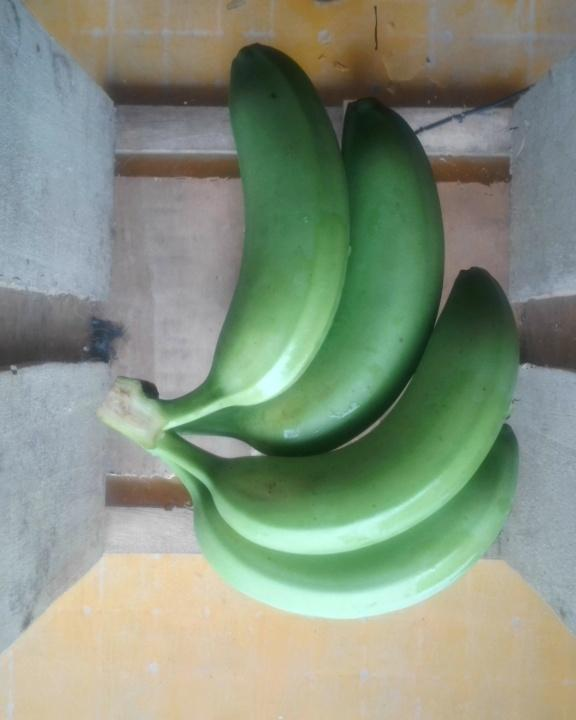SPOT: (79, 35, 534, 636)
